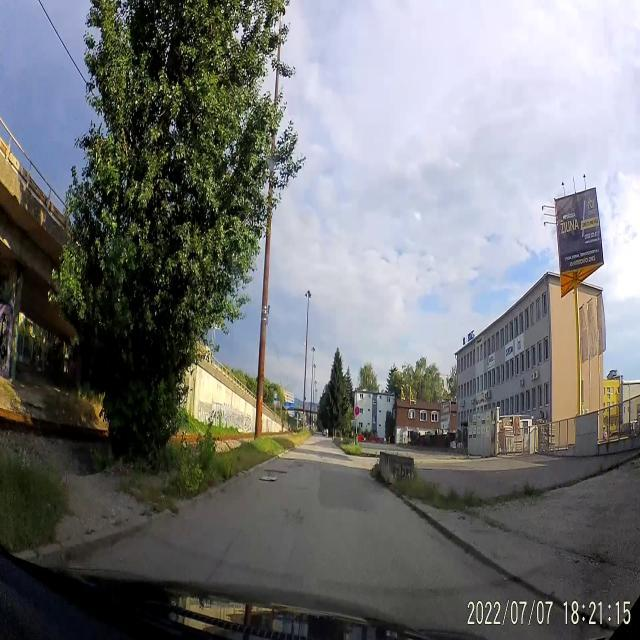Manhole: (258, 471, 280, 491)
